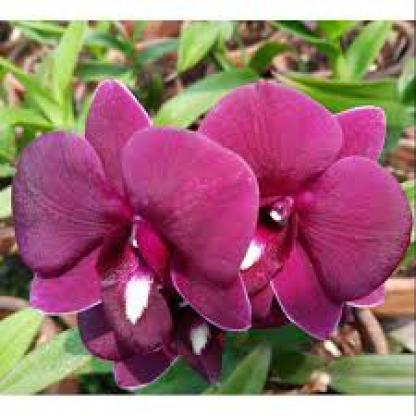ANGGREK: (12, 58, 404, 356)
